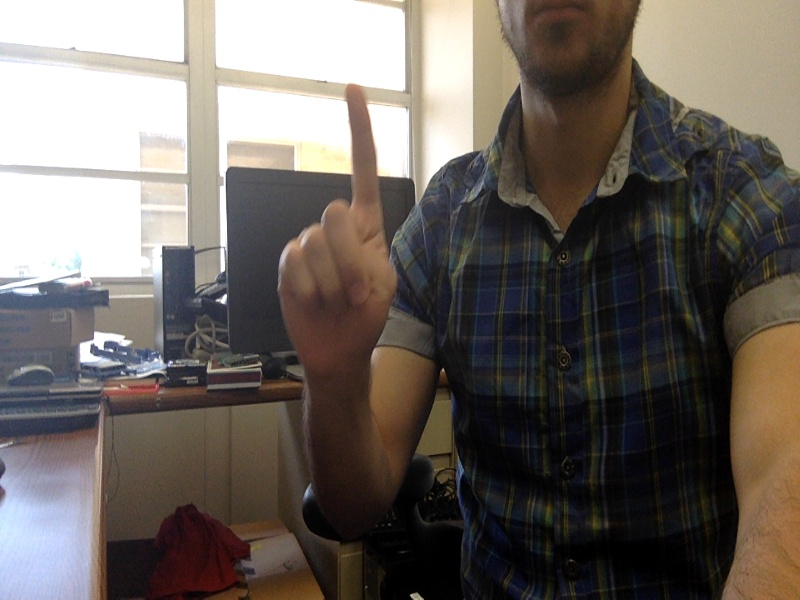1-hand: (273, 85, 395, 374)
